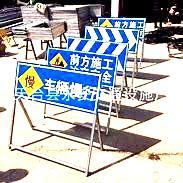sign: (13, 70, 102, 105), (49, 54, 115, 69), (99, 19, 144, 27)
